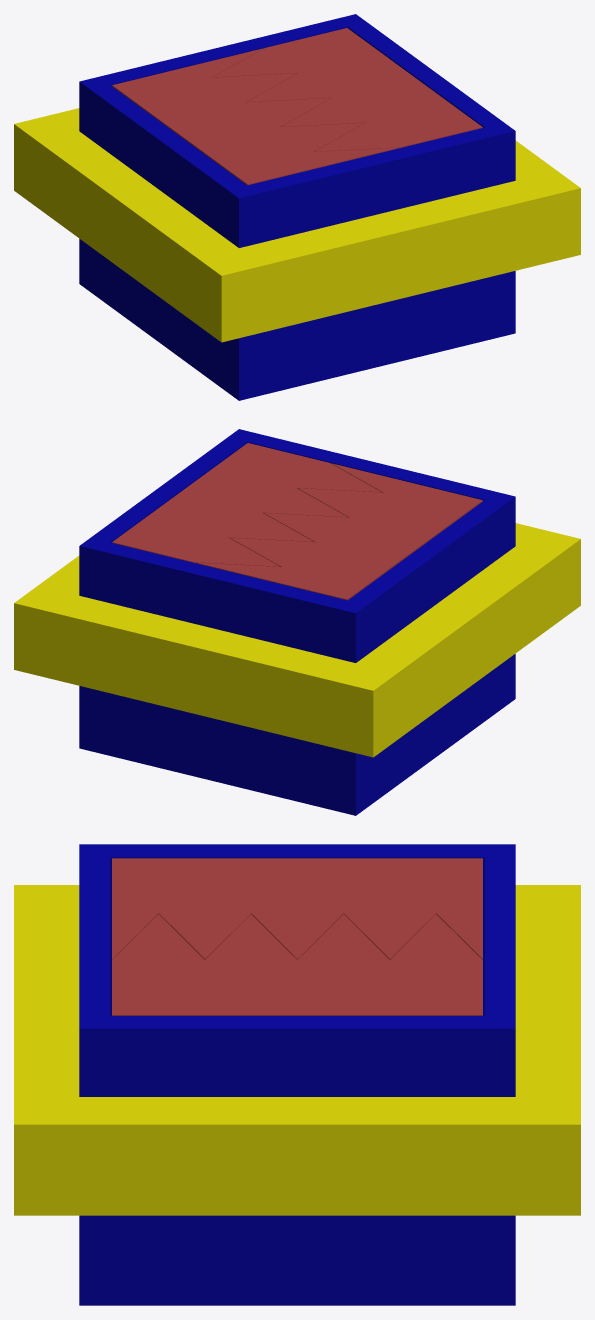
File: BM_Platform_DoorDown.fbx
3 views of the same model, one above another, from view 1: azimuth 30°, elevation 25°; view 2: azimuth 150°, elevation 25°; view 3: azimuth 270°, elevation 25° (orthographic). The views are drawn at different scales.
Parts seen in each view (by area): view 1: BM_Platform_Obstacle02_001, BM_Platform_Obstacle02_Emissive_001, BM_Platform_Obstacle02_DoorL_001, BM_Platform_Obstacle02_DoorR_001; view 2: BM_Platform_Obstacle02_001, BM_Platform_Obstacle02_Emissive_001, BM_Platform_Obstacle02_DoorL_001, BM_Platform_Obstacle02_DoorR_001; view 3: BM_Platform_Obstacle02_Emissive_001, BM_Platform_Obstacle02_001, BM_Platform_Obstacle02_DoorL_001, BM_Platform_Obstacle02_DoorR_001.
Part boxes in pixels (x1,y1,x2,y2): BM_Platform_Obstacle02_001: (79, 14, 515, 400); BM_Platform_Obstacle02_Emissive_001: (14, 108, 580, 342); BM_Platform_Obstacle02_DoorL_001: (112, 48, 398, 185); BM_Platform_Obstacle02_DoorR_001: (213, 28, 482, 151); BM_Platform_Obstacle02_001: (79, 429, 515, 815); BM_Platform_Obstacle02_Emissive_001: (14, 523, 580, 757); BM_Platform_Obstacle02_DoorL_001: (196, 463, 482, 600); BM_Platform_Obstacle02_DoorR_001: (112, 443, 381, 566); BM_Platform_Obstacle02_Emissive_001: (14, 885, 580, 1215); BM_Platform_Obstacle02_001: (79, 844, 515, 1305); BM_Platform_Obstacle02_DoorL_001: (112, 858, 482, 959); BM_Platform_Obstacle02_DoorR_001: (112, 914, 482, 1015).
Bounding box in the file's own units: 260 × 140 × 260.
